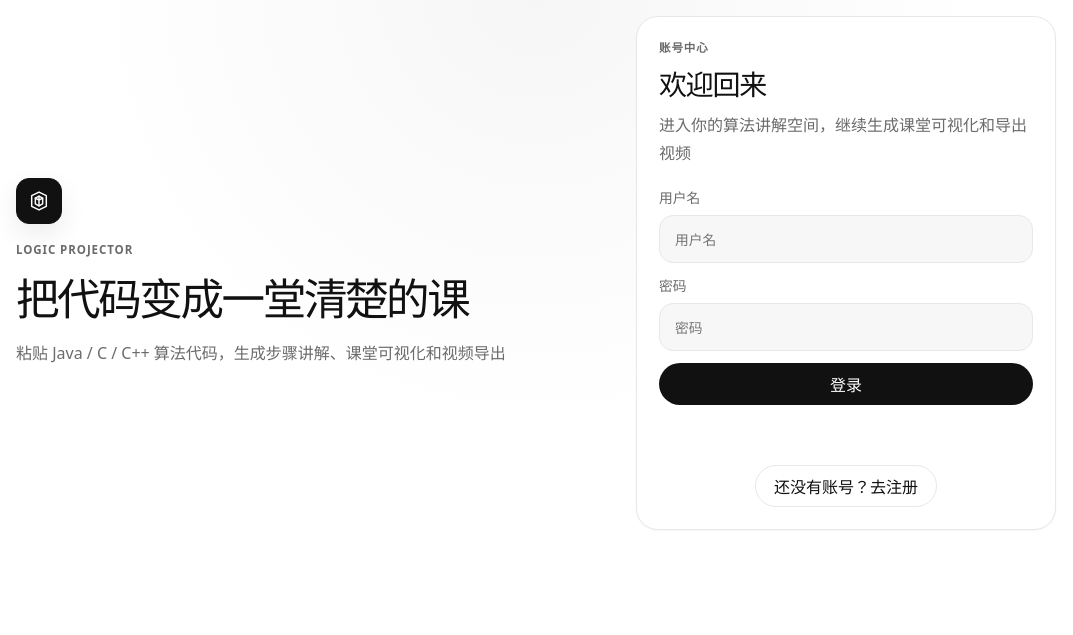
App › submits registration from the auth panel and returns to login mode
The image size is (1073, 635).
Click the button with class "auth-toggle" at (846,486), box [755, 465, 937, 507]
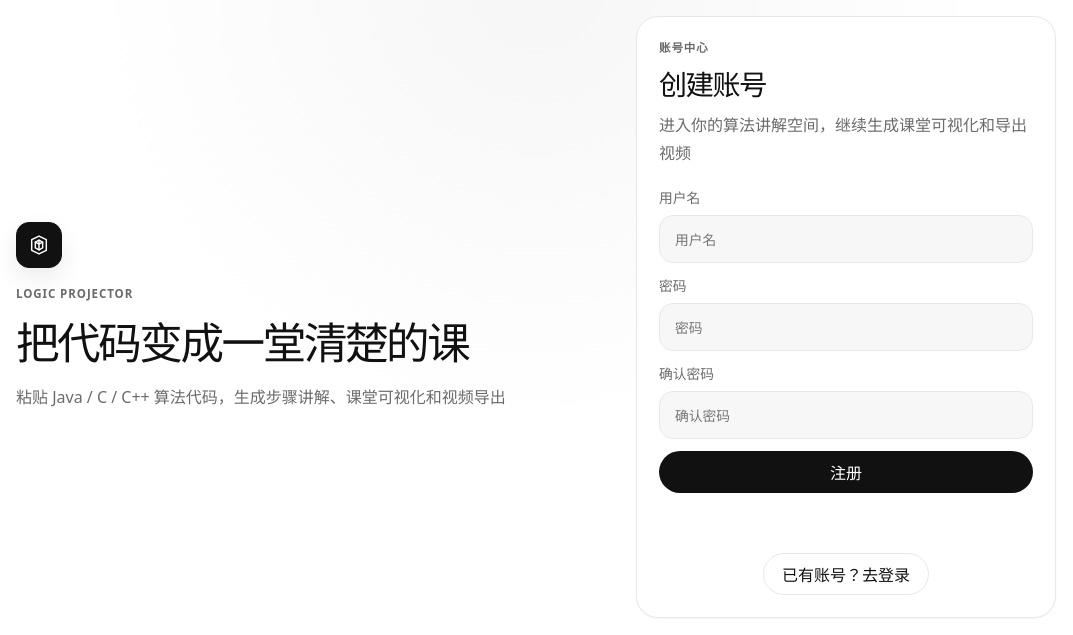
Type "new-user" into the field with placeholder "用户名" at (846,239), box [659, 215, 1033, 263]
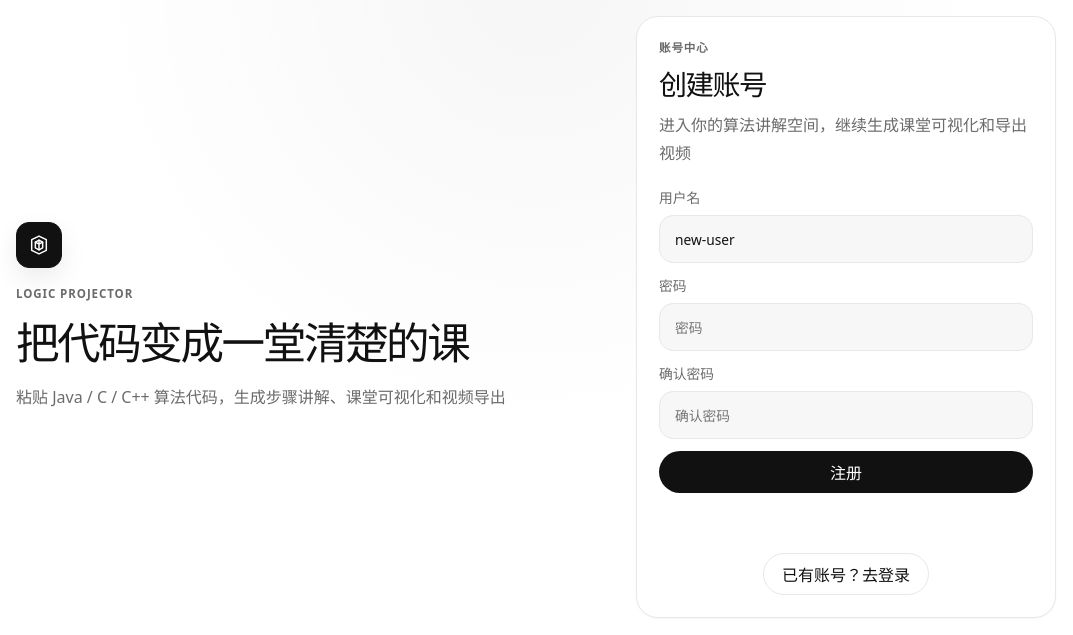
Type "secret-pass" into the password field with placeholder "密码" at (846,327), box [659, 303, 1033, 351]
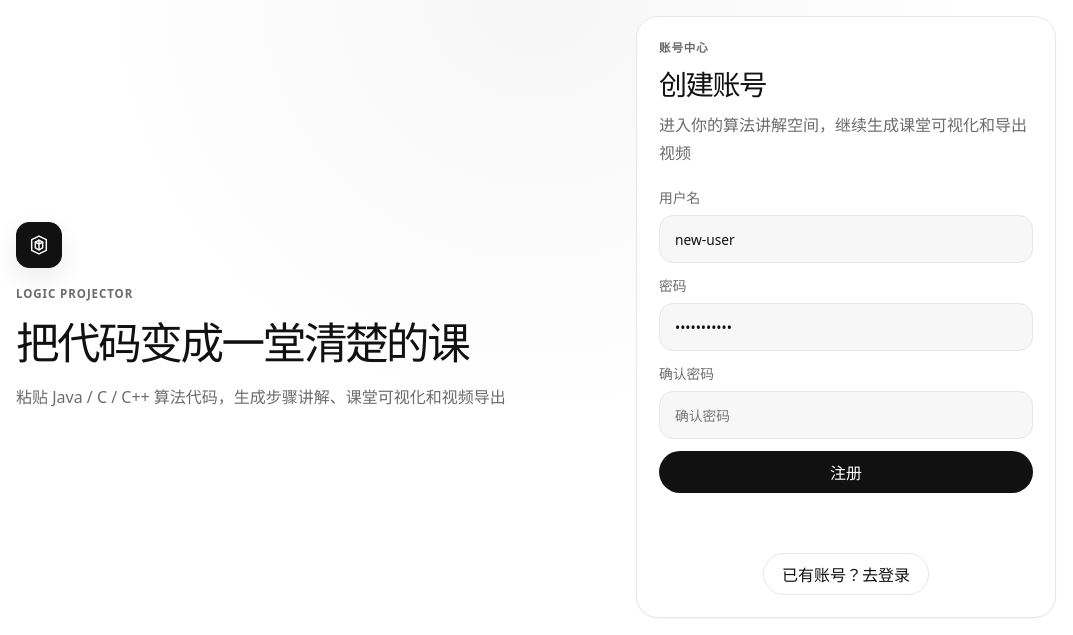
Type "secret-pass" into the password field with placeholder "确认密码" at (846,415), box [659, 391, 1033, 439]
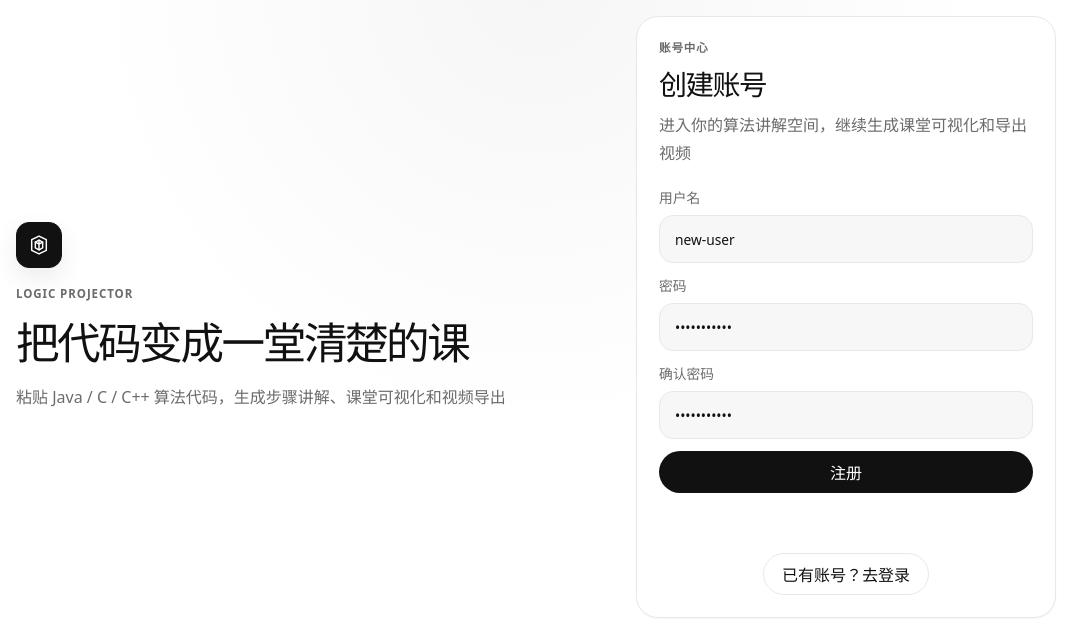
Submit the form with class "auth-form", box [659, 187, 1033, 493]
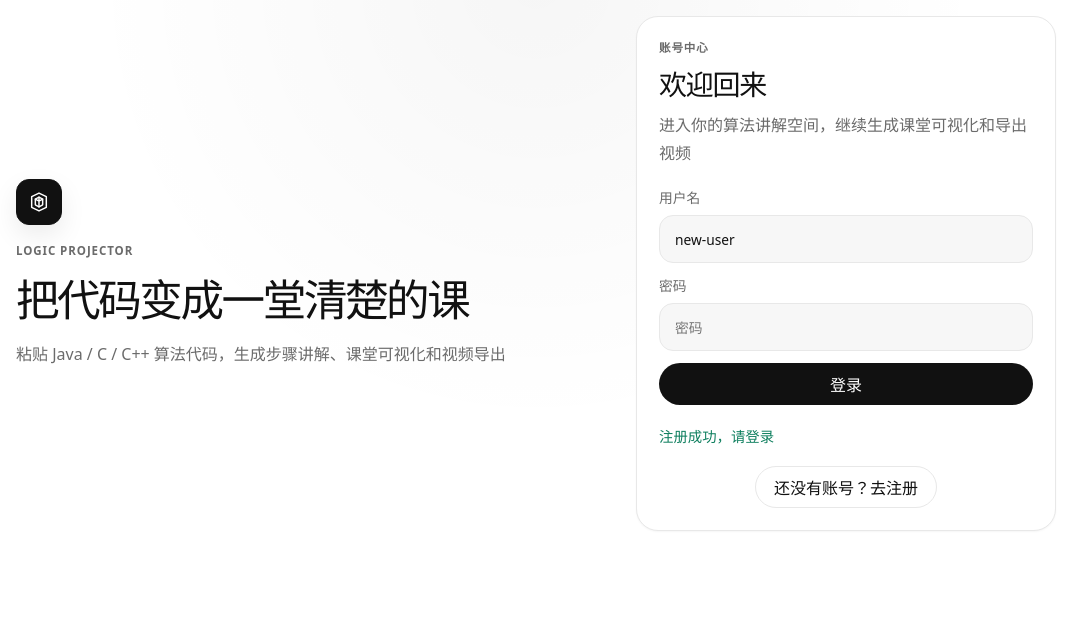
Now the text "注册成功，请登录" is shown, box [659, 427, 774, 446]
Now the text "欢迎回来" is shown, box [659, 65, 766, 103]
